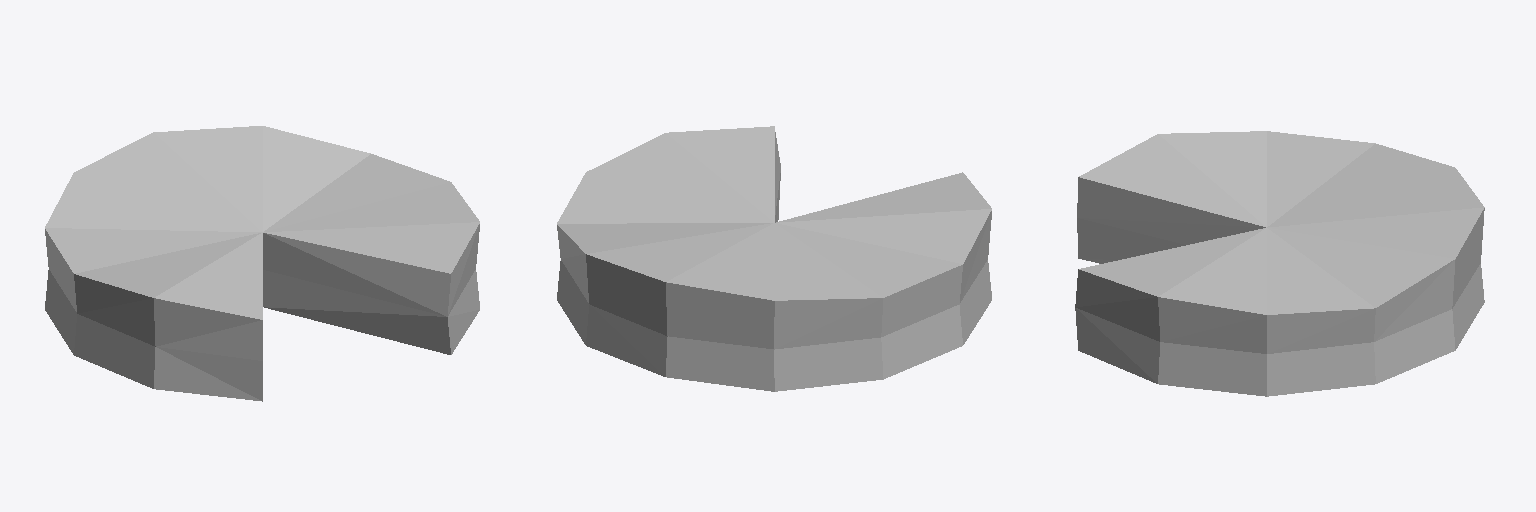
File: Cheese_01.OBJ
3 renders of one model, left to right at view 1: azimuth 30°, elevation 25°; view 2: azimuth 150°, elevation 25°; view 3: azimuth 270°, elevation 25°, orthographic.
Bounding box in the file's own units: 0.1087 × 0.0268 × 0.1021.